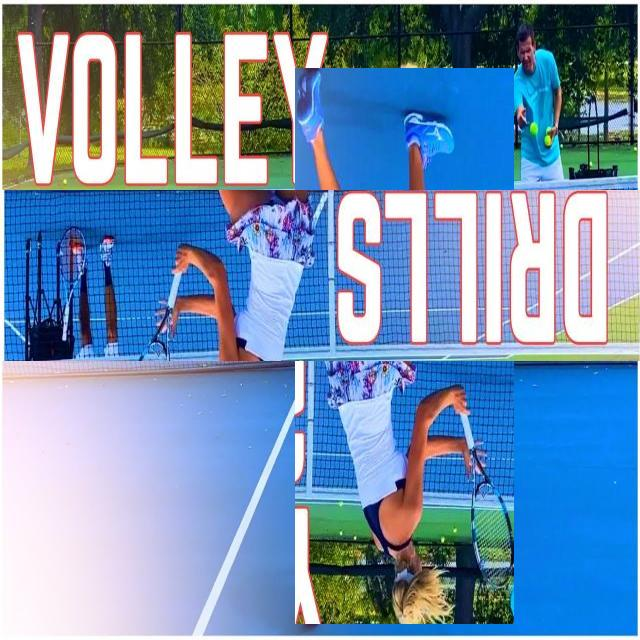net: (2, 190, 640, 361)
player: (295, 68, 514, 624)
